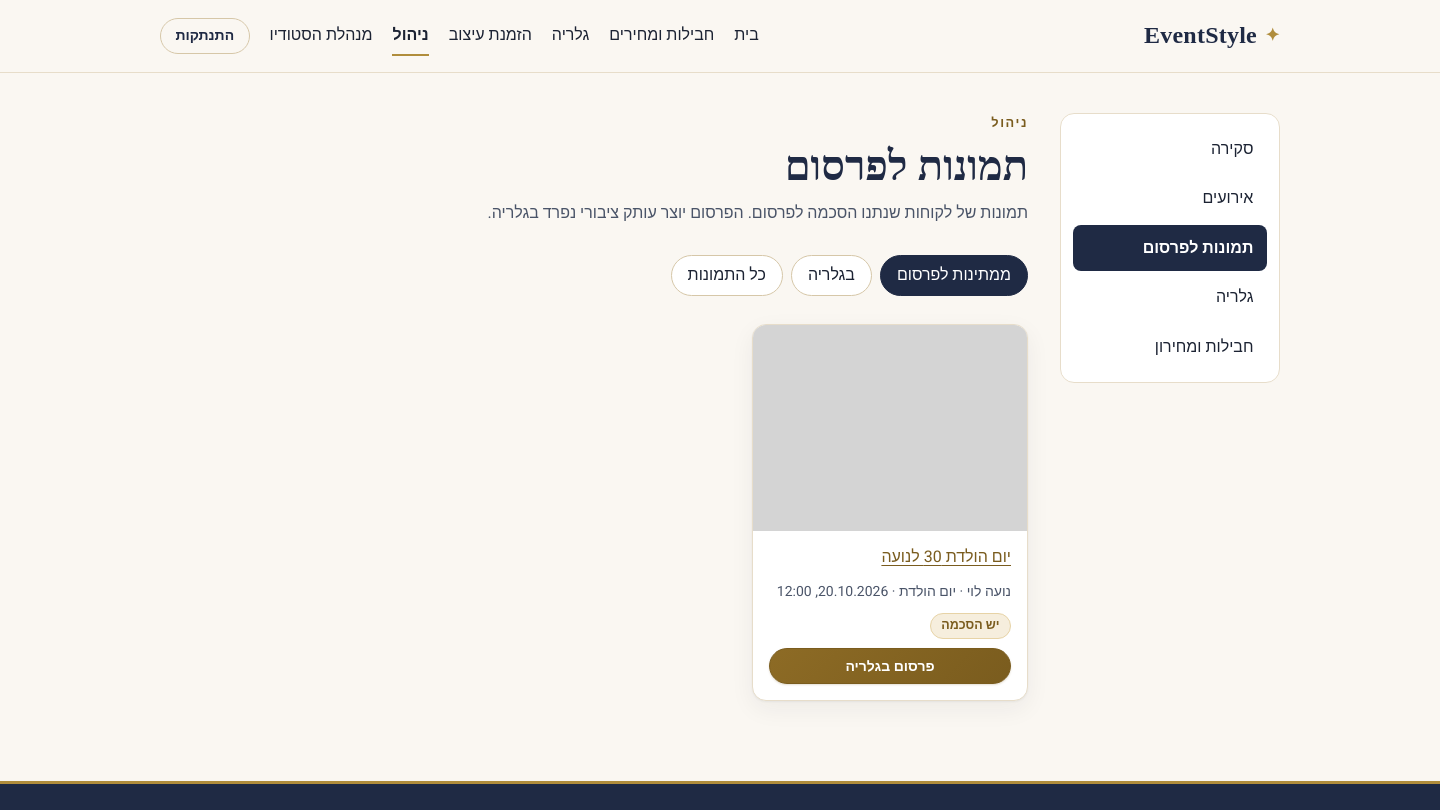
Test: Admin: photos waiting for publication › PUBLISH_CONSENT_REQUIRED from the server is shown in the dialog
This screenshot has width=1440, height=810.
Step 1. Click the button "פרסום בגלריה" → [890, 666], box 769,648 -> 1011,684
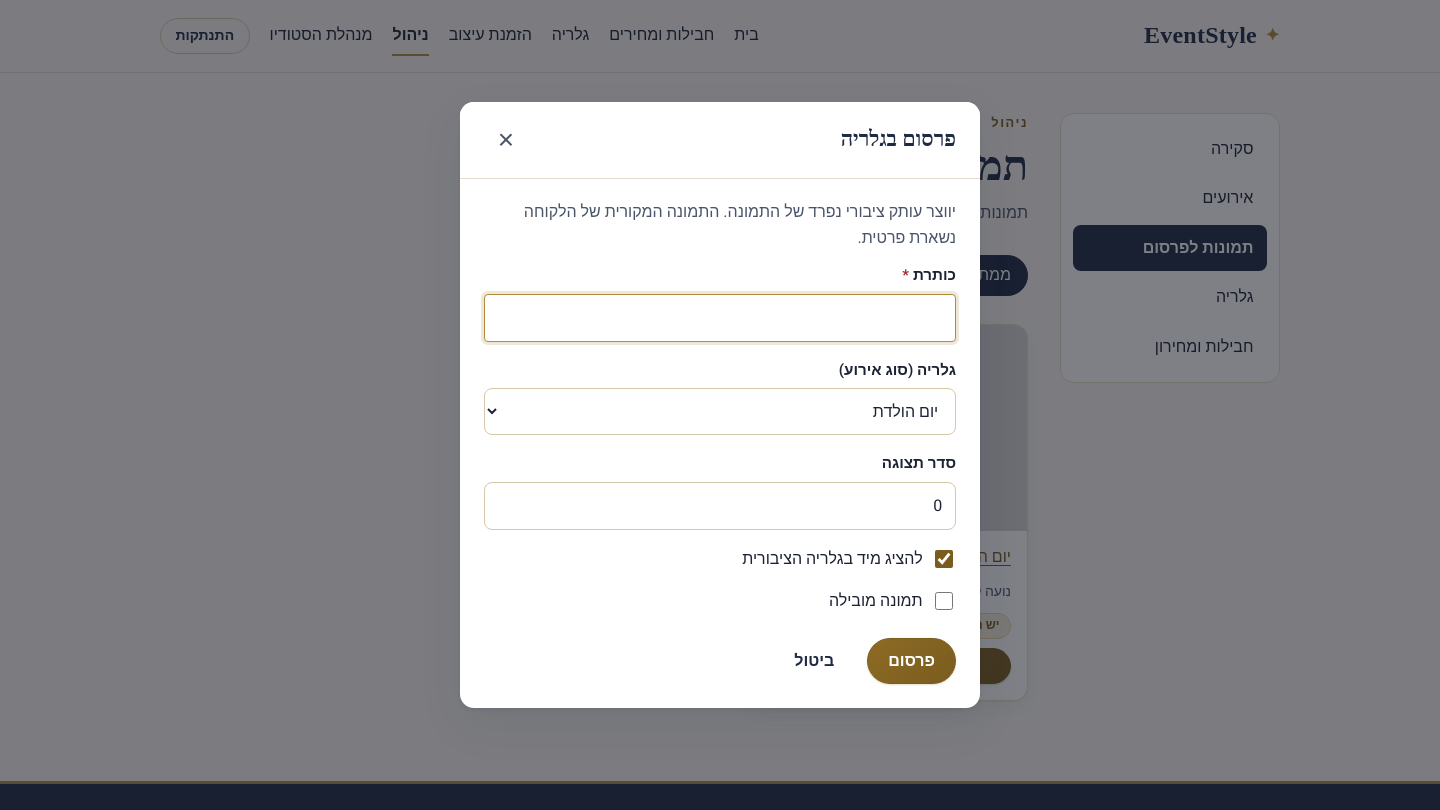
Step 2. Type "כותרת" into the field labelled "כותרת *" → [720, 318], box 484,294 -> 956,342
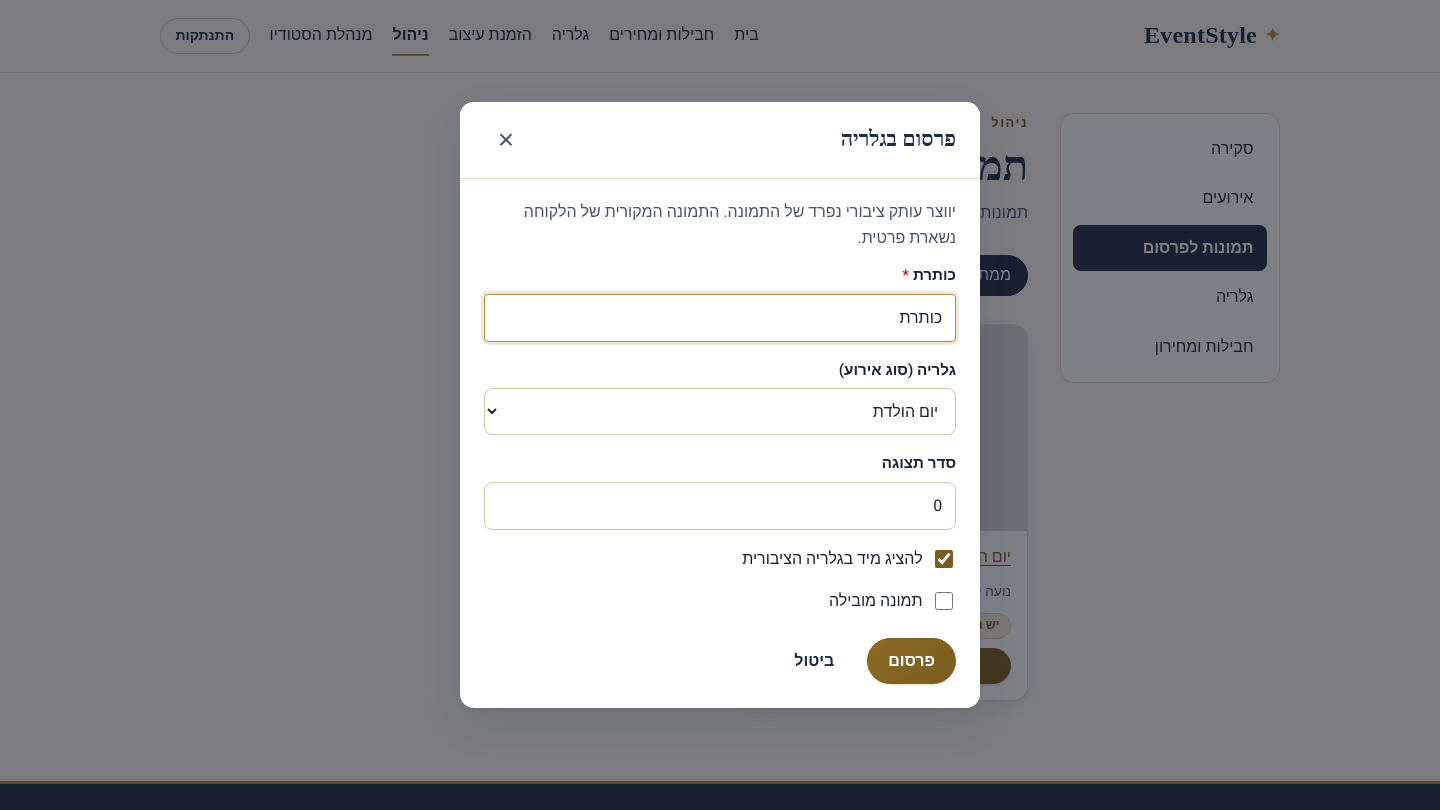
Step 3. Click the button "פרסום" → [912, 662], box 867,638 -> 956,684
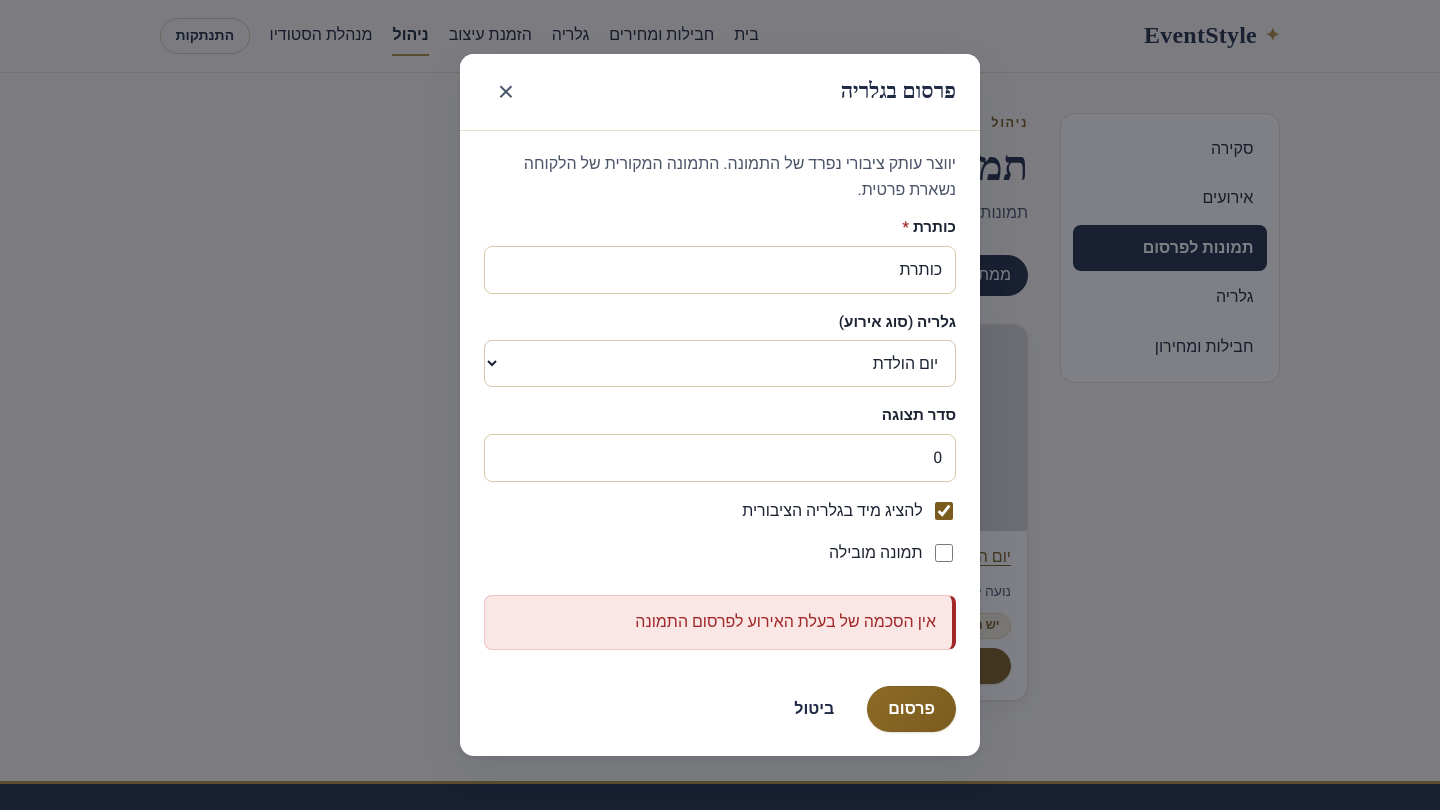
Now the text "אין הסכמה של בעלת האירוע לפרסום התמונה" is shown, box 635,610 -> 936,634
